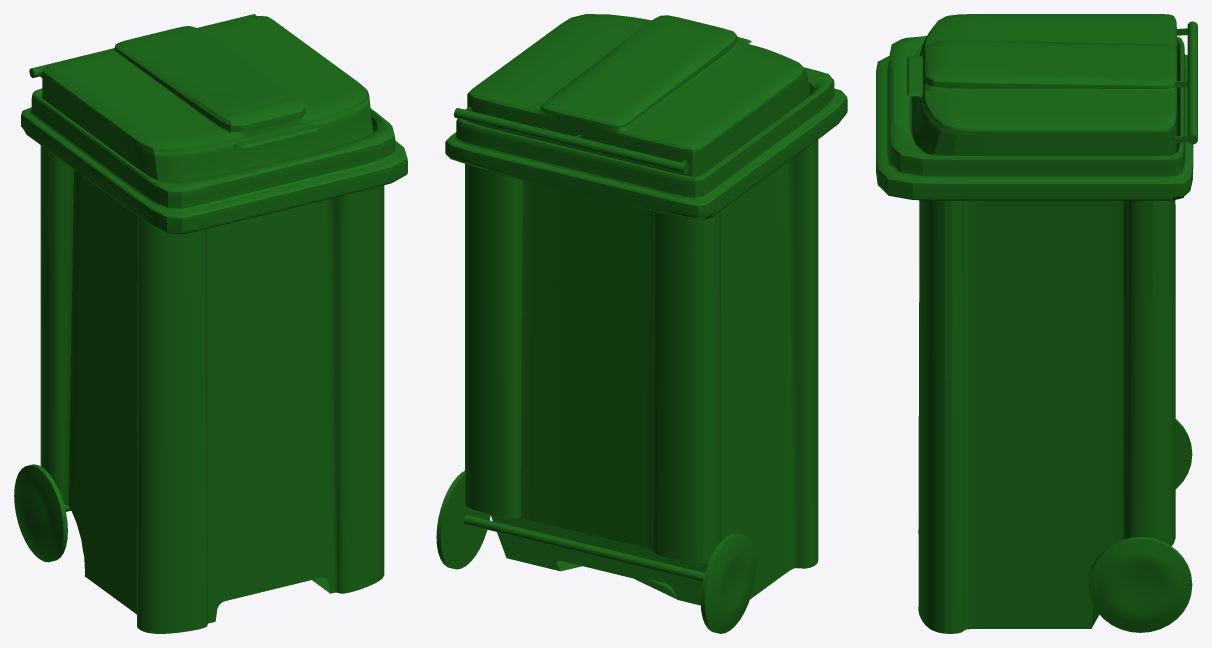
File: RecycleBin.fbx
3 renders of one model, left to right at view 1: azimuth 30°, elevation 25°; view 2: azimuth 150°, elevation 25°; view 3: azimuth 270°, elevation 25°, orthographic. The views are drawn at different scales.
Visible parts, largest first — view 1: Rubbish bin; view 2: Rubbish bin; view 3: Rubbish bin.
Part boxes in pixels (x1,y1,x2,y2): Rubbish bin: [14, 14, 407, 633]; Rubbish bin: [436, 14, 847, 633]; Rubbish bin: [876, 14, 1197, 633].
Bounding box in the file's own units: 60.27 × 106 × 60.09.
